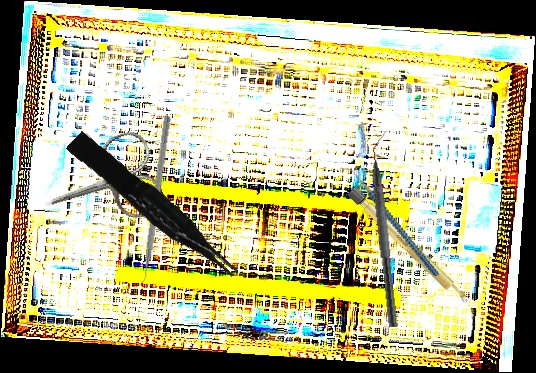Chopper: (338, 148, 440, 295), (365, 130, 411, 328), (130, 113, 172, 293)
Iris Scissors: (31, 127, 168, 245)
Scalpel Handle: (344, 184, 473, 309)
Tissue Forceps: (65, 124, 242, 291)
